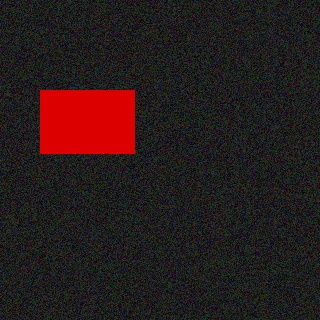red_barrel: (40, 90, 135, 153)
